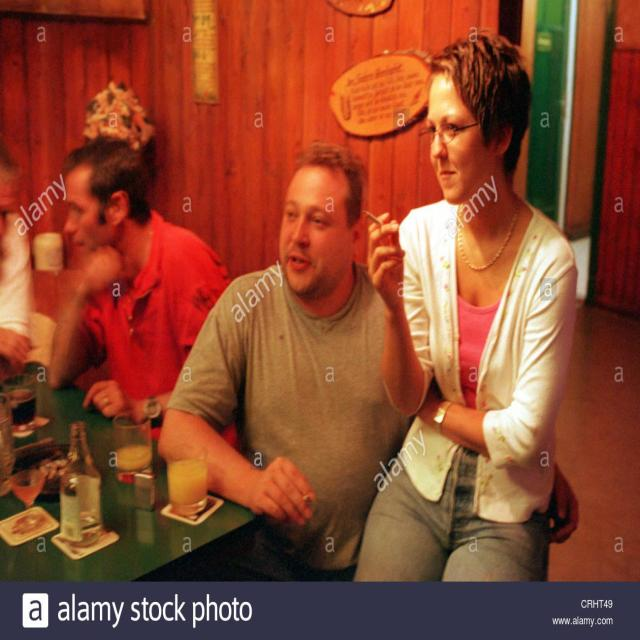cigarette: (359, 197, 394, 235)
